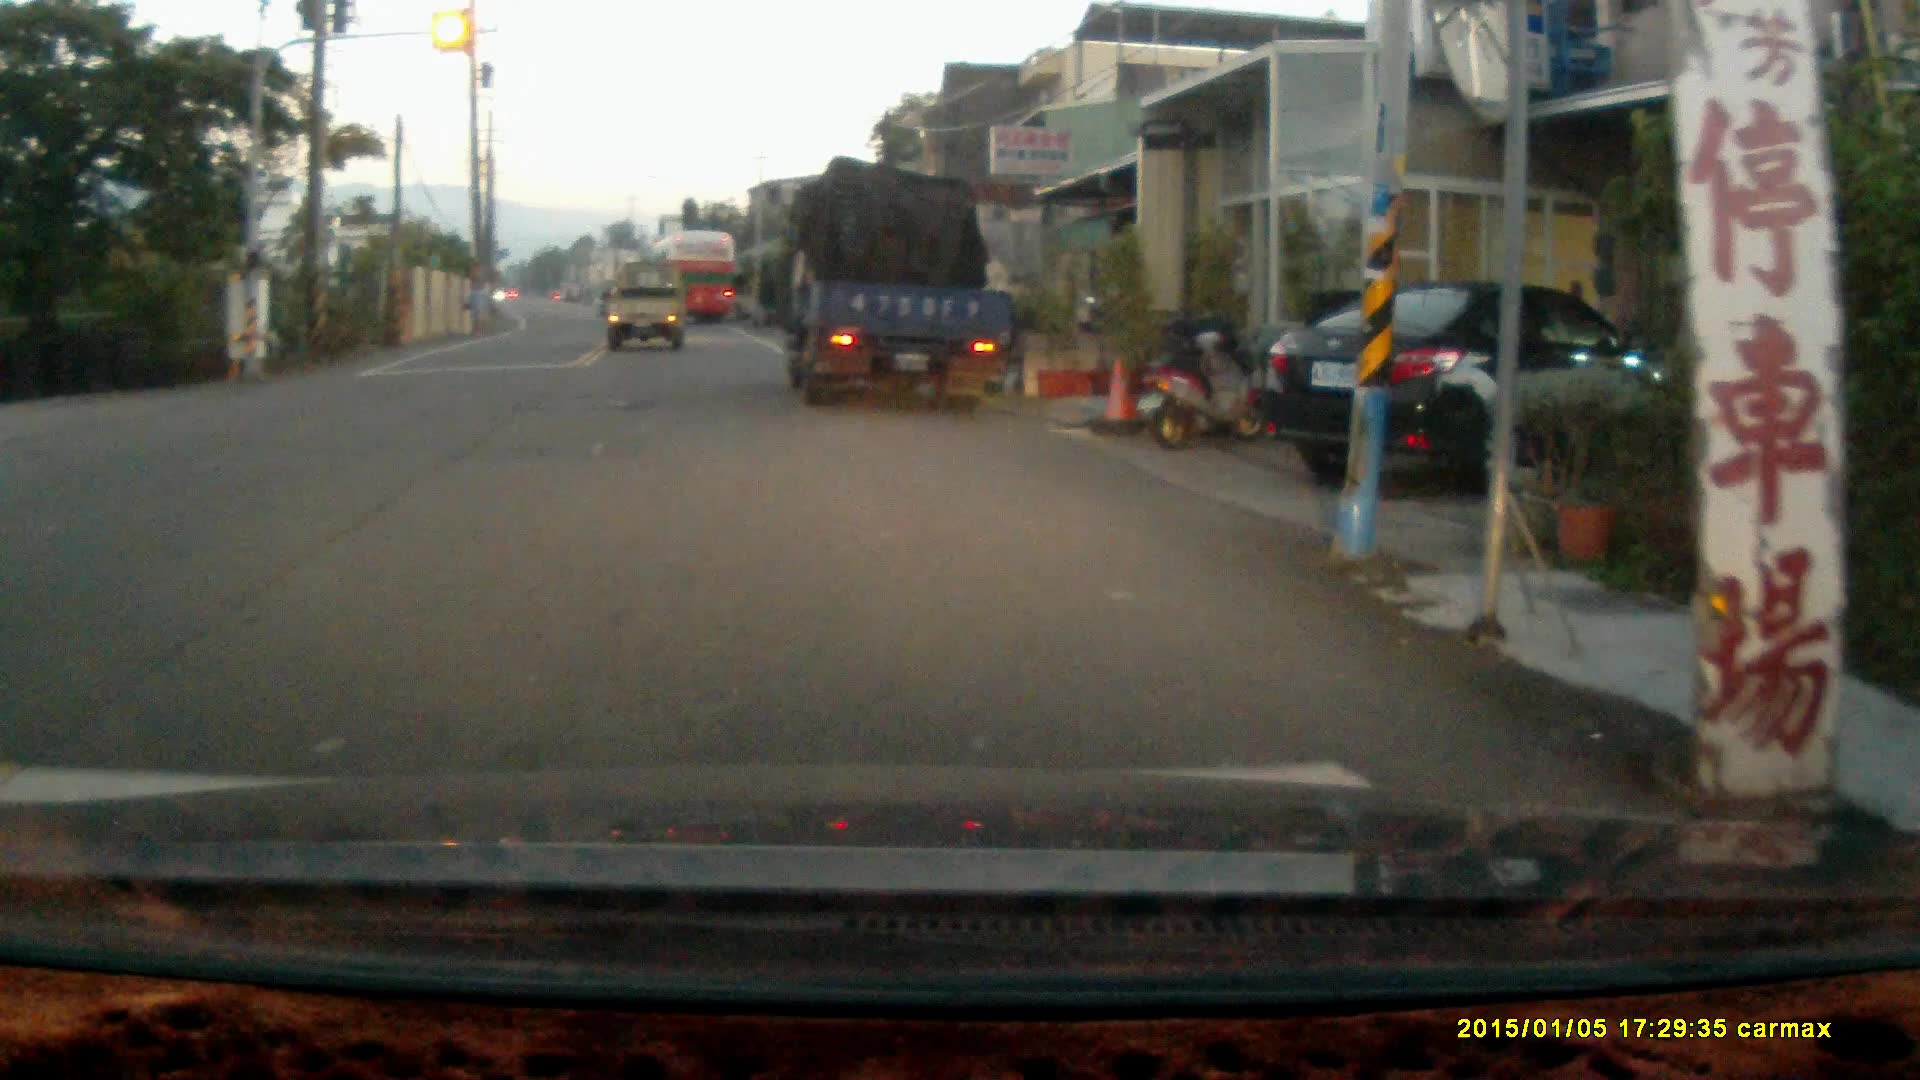vehicle: (1253, 280, 1687, 491), (769, 167, 1015, 407), (651, 235, 746, 335), (605, 269, 684, 352)
